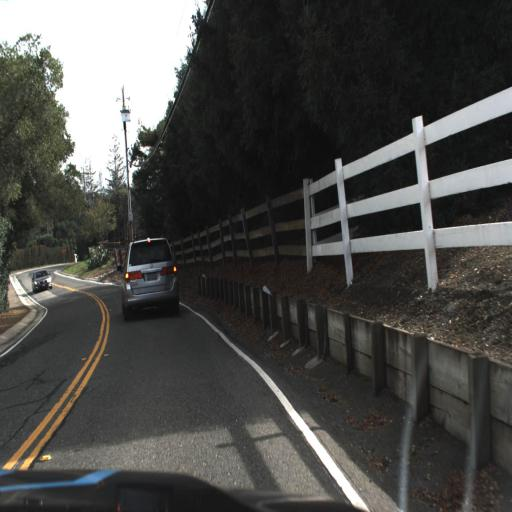car: (122, 236, 185, 323), (27, 265, 53, 296)
